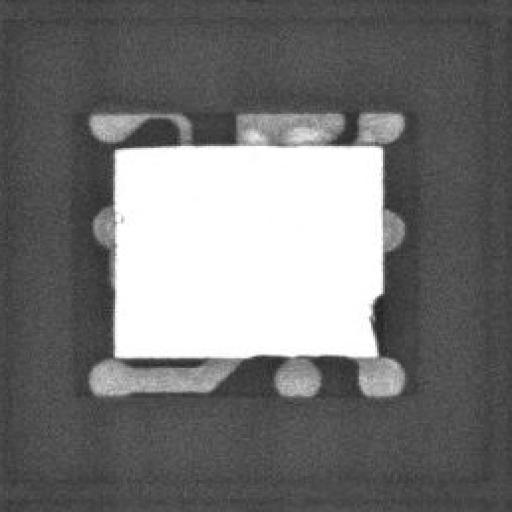DIE_BROKEN: (367, 290, 381, 357)
